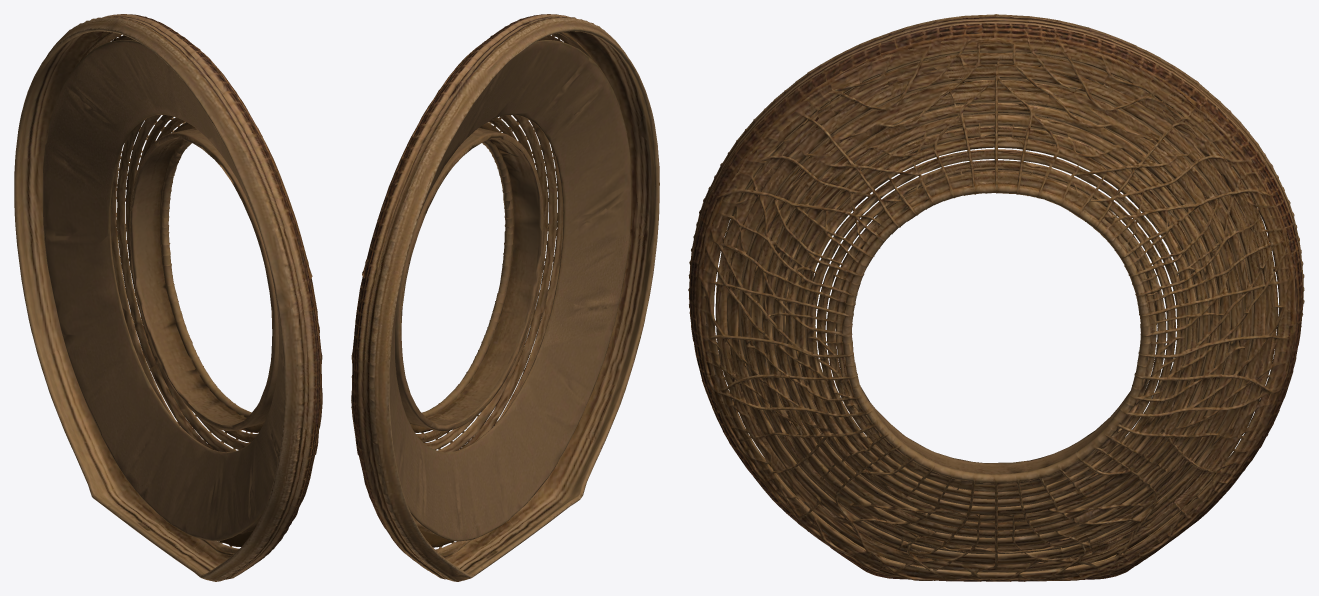
Rendered from art_ring.glb.
3 renders of one model, left to right at view 1: azimuth 30°, elevation 25°; view 2: azimuth 150°, elevation 25°; view 3: azimuth 270°, elevation 25°, orthographic. The views are drawn at different scales.
Visible parts, largest first — view 1: tripo_node_e8bf0414-7faf-4a59-957a-ba86b8dec961; view 2: tripo_node_e8bf0414-7faf-4a59-957a-ba86b8dec961; view 3: tripo_node_e8bf0414-7faf-4a59-957a-ba86b8dec961.
Boxes of the visible parts, x1=… form: tripo_node_e8bf0414-7faf-4a59-957a-ba86b8dec961: x1=14, y1=14, x2=322, y2=581; tripo_node_e8bf0414-7faf-4a59-957a-ba86b8dec961: x1=351, y1=14, x2=659, y2=581; tripo_node_e8bf0414-7faf-4a59-957a-ba86b8dec961: x1=688, y1=14, x2=1304, y2=581.
Size of the model in its own units: 0.1112 by 0.6 by 0.5994.
Materials: 1 (1 with a texture image).
